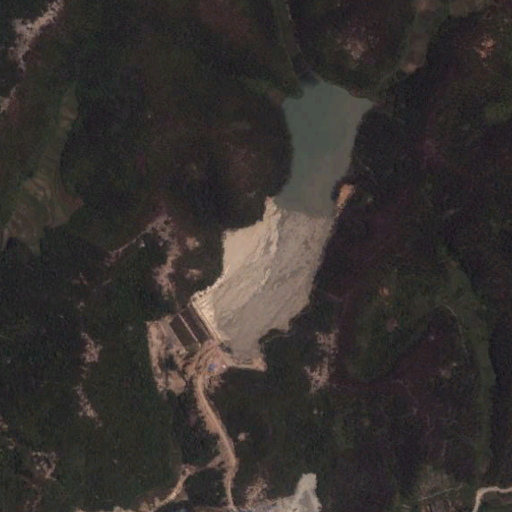tp: (190, 80, 376, 357)
